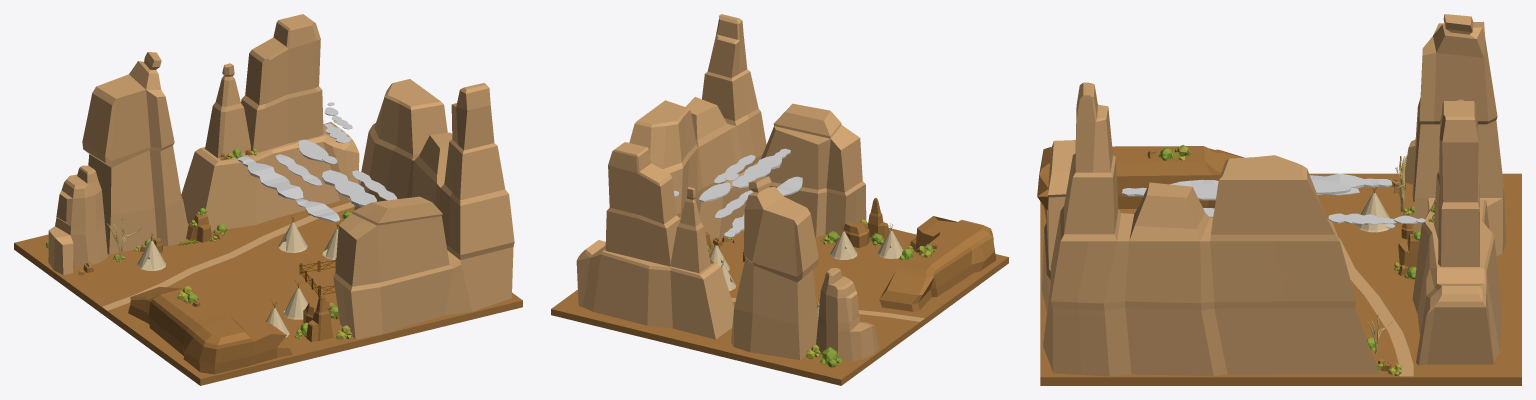
Rendered from desert.glb.
3 views of the same model, side by side, from view 1: azimuth 30°, elevation 25°; view 2: azimuth 150°, elevation 25°; view 3: azimuth 270°, elevation 25° (orthographic). The views are drawn at different scales.
Parts seen in each view (by area): view 1: Cube.008, Cube, Cube.018, Plane.012, Cone.002, Cube.007, Cube.065, Cube.052, Cylinder.017; view 2: Cube.008, Cube, Cube.018, Plane.012, Cone.002, Cube.065, Cube.052; view 3: Cube.008, Cube, Cube.018, Plane.012, Cube.007, Cone.002, Plane.001, Cube.065, Cube.052.
Part boxes in pixels (x1,y1,x2,y2): Cube.008: [48, 14, 514, 339]; Cube: [14, 180, 522, 385]; Cube.018: [78, 149, 339, 374]; Plane.012: [238, 102, 397, 222]; Cone.002: [137, 222, 338, 337]; Cube.007: [102, 202, 353, 310]; Cube.065: [46, 148, 351, 336]; Cube.052: [118, 149, 352, 339]; Cylinder.017: [299, 258, 336, 296]; Cube.008: [576, 14, 878, 361]; Cube: [551, 228, 1008, 385]; Cube.018: [705, 182, 996, 311]; Plane.012: [674, 148, 802, 237]; Cone.002: [709, 230, 903, 319]; Cube.065: [707, 187, 933, 367]; Cube.052: [724, 181, 931, 359]; Cube.008: [1042, 14, 1505, 376]; Cube: [1040, 173, 1521, 385]; Cube.018: [1037, 146, 1434, 371]; Plane.012: [1122, 173, 1425, 228]; Cube.007: [1338, 237, 1413, 376]; Cone.002: [1355, 192, 1392, 232]; Plane.001: [1366, 153, 1408, 353]; Cube.065: [1158, 148, 1434, 369]; Cube.052: [1171, 145, 1435, 375].
Bounding box in the file's own units: 1.99 × 1.27 × 2.
Materials: 15 (15 with a texture image).
